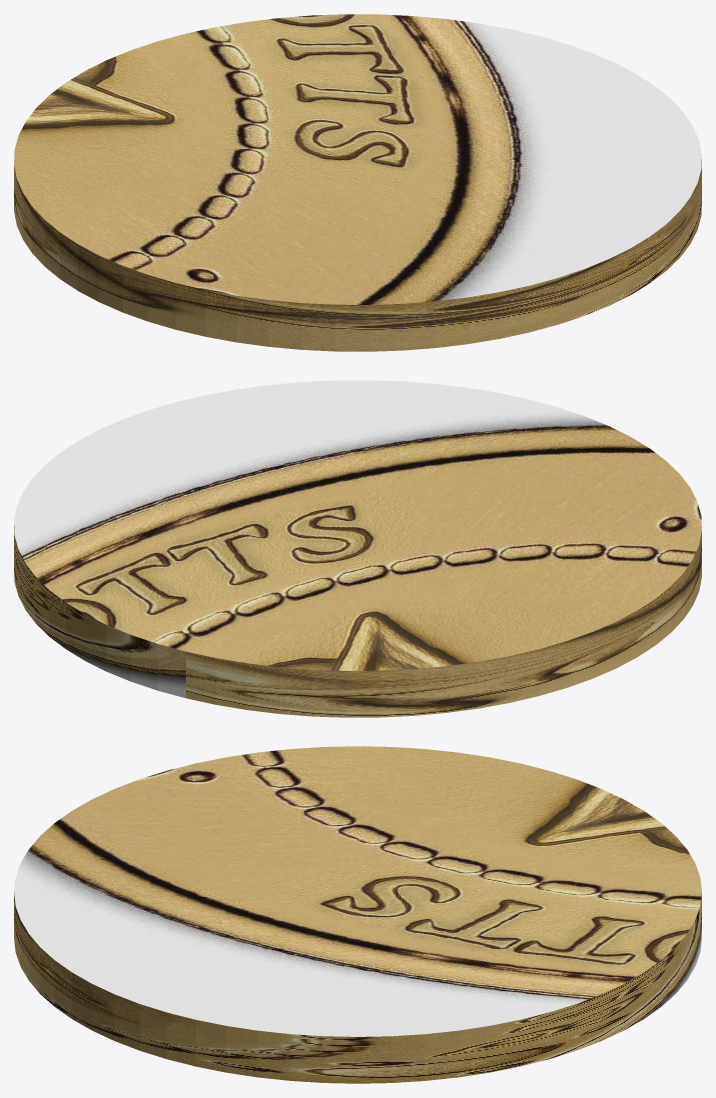
File: fnatom.obj
3 renders of one model, top to bottom at view 1: azimuth 30°, elevation 25°; view 2: azimuth 150°, elevation 25°; view 3: azimuth 270°, elevation 25°, orthographic.
Visible parts, largest first — view 1: Cylinder; view 2: Cylinder; view 3: Cylinder.
Boxes of the visible parts, x1,y1,x2,y2 form: Cylinder: (14,14,701,351); Cylinder: (14,380,701,717); Cylinder: (14,746,701,1083).
Size of the model in its own units: 2 by 0.15 by 2.
